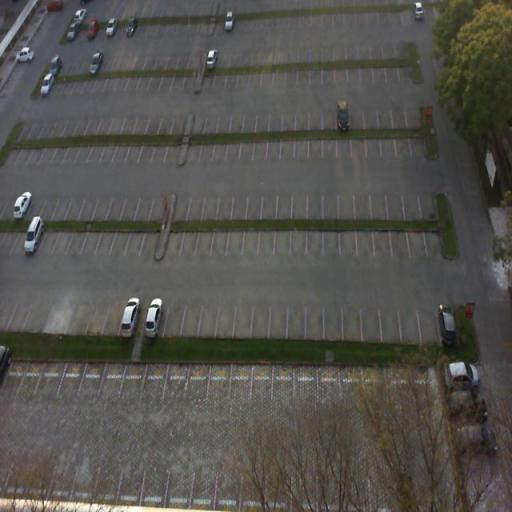Slot-empty: (163, 458, 200, 512), (310, 365, 350, 411), (138, 466, 174, 512), (32, 359, 69, 401), (354, 303, 389, 347), (55, 357, 88, 403), (337, 298, 368, 346), (160, 359, 192, 405), (141, 359, 174, 403), (189, 468, 222, 512), (281, 301, 312, 347), (264, 297, 294, 344), (227, 360, 259, 404), (292, 364, 324, 408), (95, 362, 132, 400), (250, 358, 278, 408), (230, 299, 259, 345), (392, 305, 425, 345), (118, 360, 150, 401), (158, 298, 188, 340), (302, 301, 330, 346), (269, 363, 299, 405), (374, 307, 407, 345), (204, 360, 235, 399), (179, 298, 205, 344), (249, 299, 275, 345), (215, 301, 242, 344), (184, 363, 214, 399), (320, 307, 348, 345), (196, 302, 222, 342), (386, 222, 414, 259), (351, 223, 378, 259), (318, 228, 346, 262), (254, 228, 282, 260), (123, 227, 148, 261), (222, 228, 248, 260), (177, 228, 203, 258), (287, 231, 313, 261), (196, 228, 213, 260)
